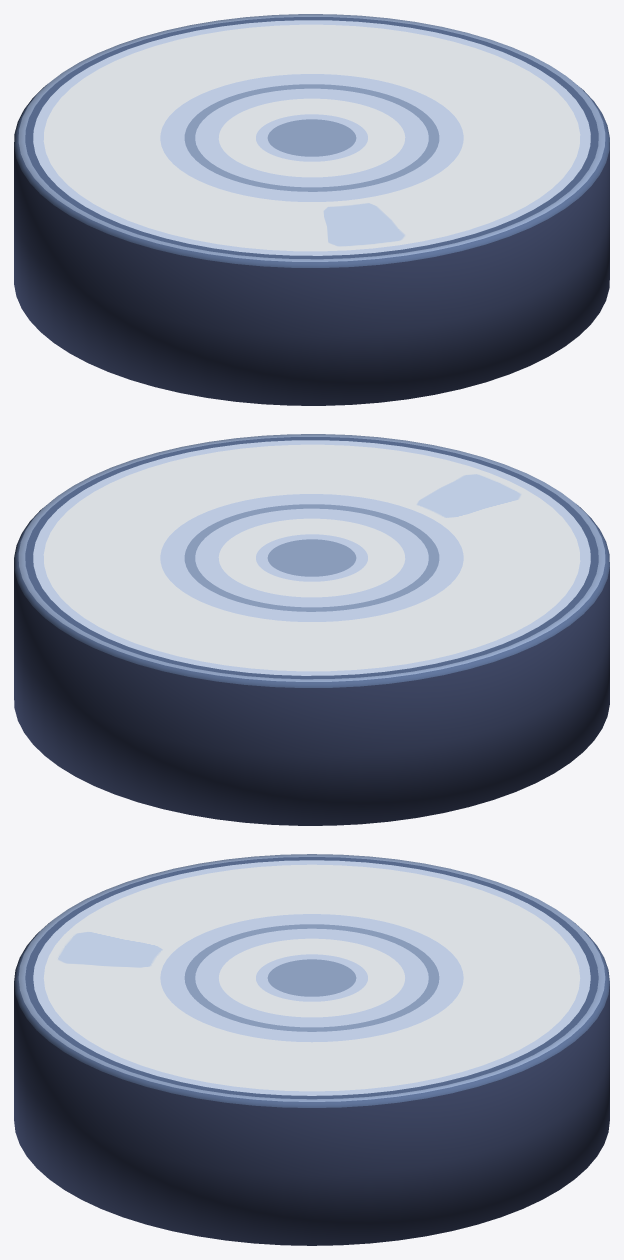
Rendered from Platform_Medium.fbx.
3 views of the same model, one above another, from view 1: azimuth 30°, elevation 25°; view 2: azimuth 150°, elevation 25°; view 3: azimuth 270°, elevation 25° (orthographic).
Parts seen in each view (by area): view 1: Cylinder.003; view 2: Cylinder.003; view 3: Cylinder.003.
Part boxes in pixels (x1=…): Cylinder.003: x1=14, y1=14, x2=609, y2=405; Cylinder.003: x1=14, y1=434, x2=609, y2=825; Cylinder.003: x1=14, y1=854, x2=609, y2=1245.
Size of the model in its own units: 29 by 7.62 by 29.
